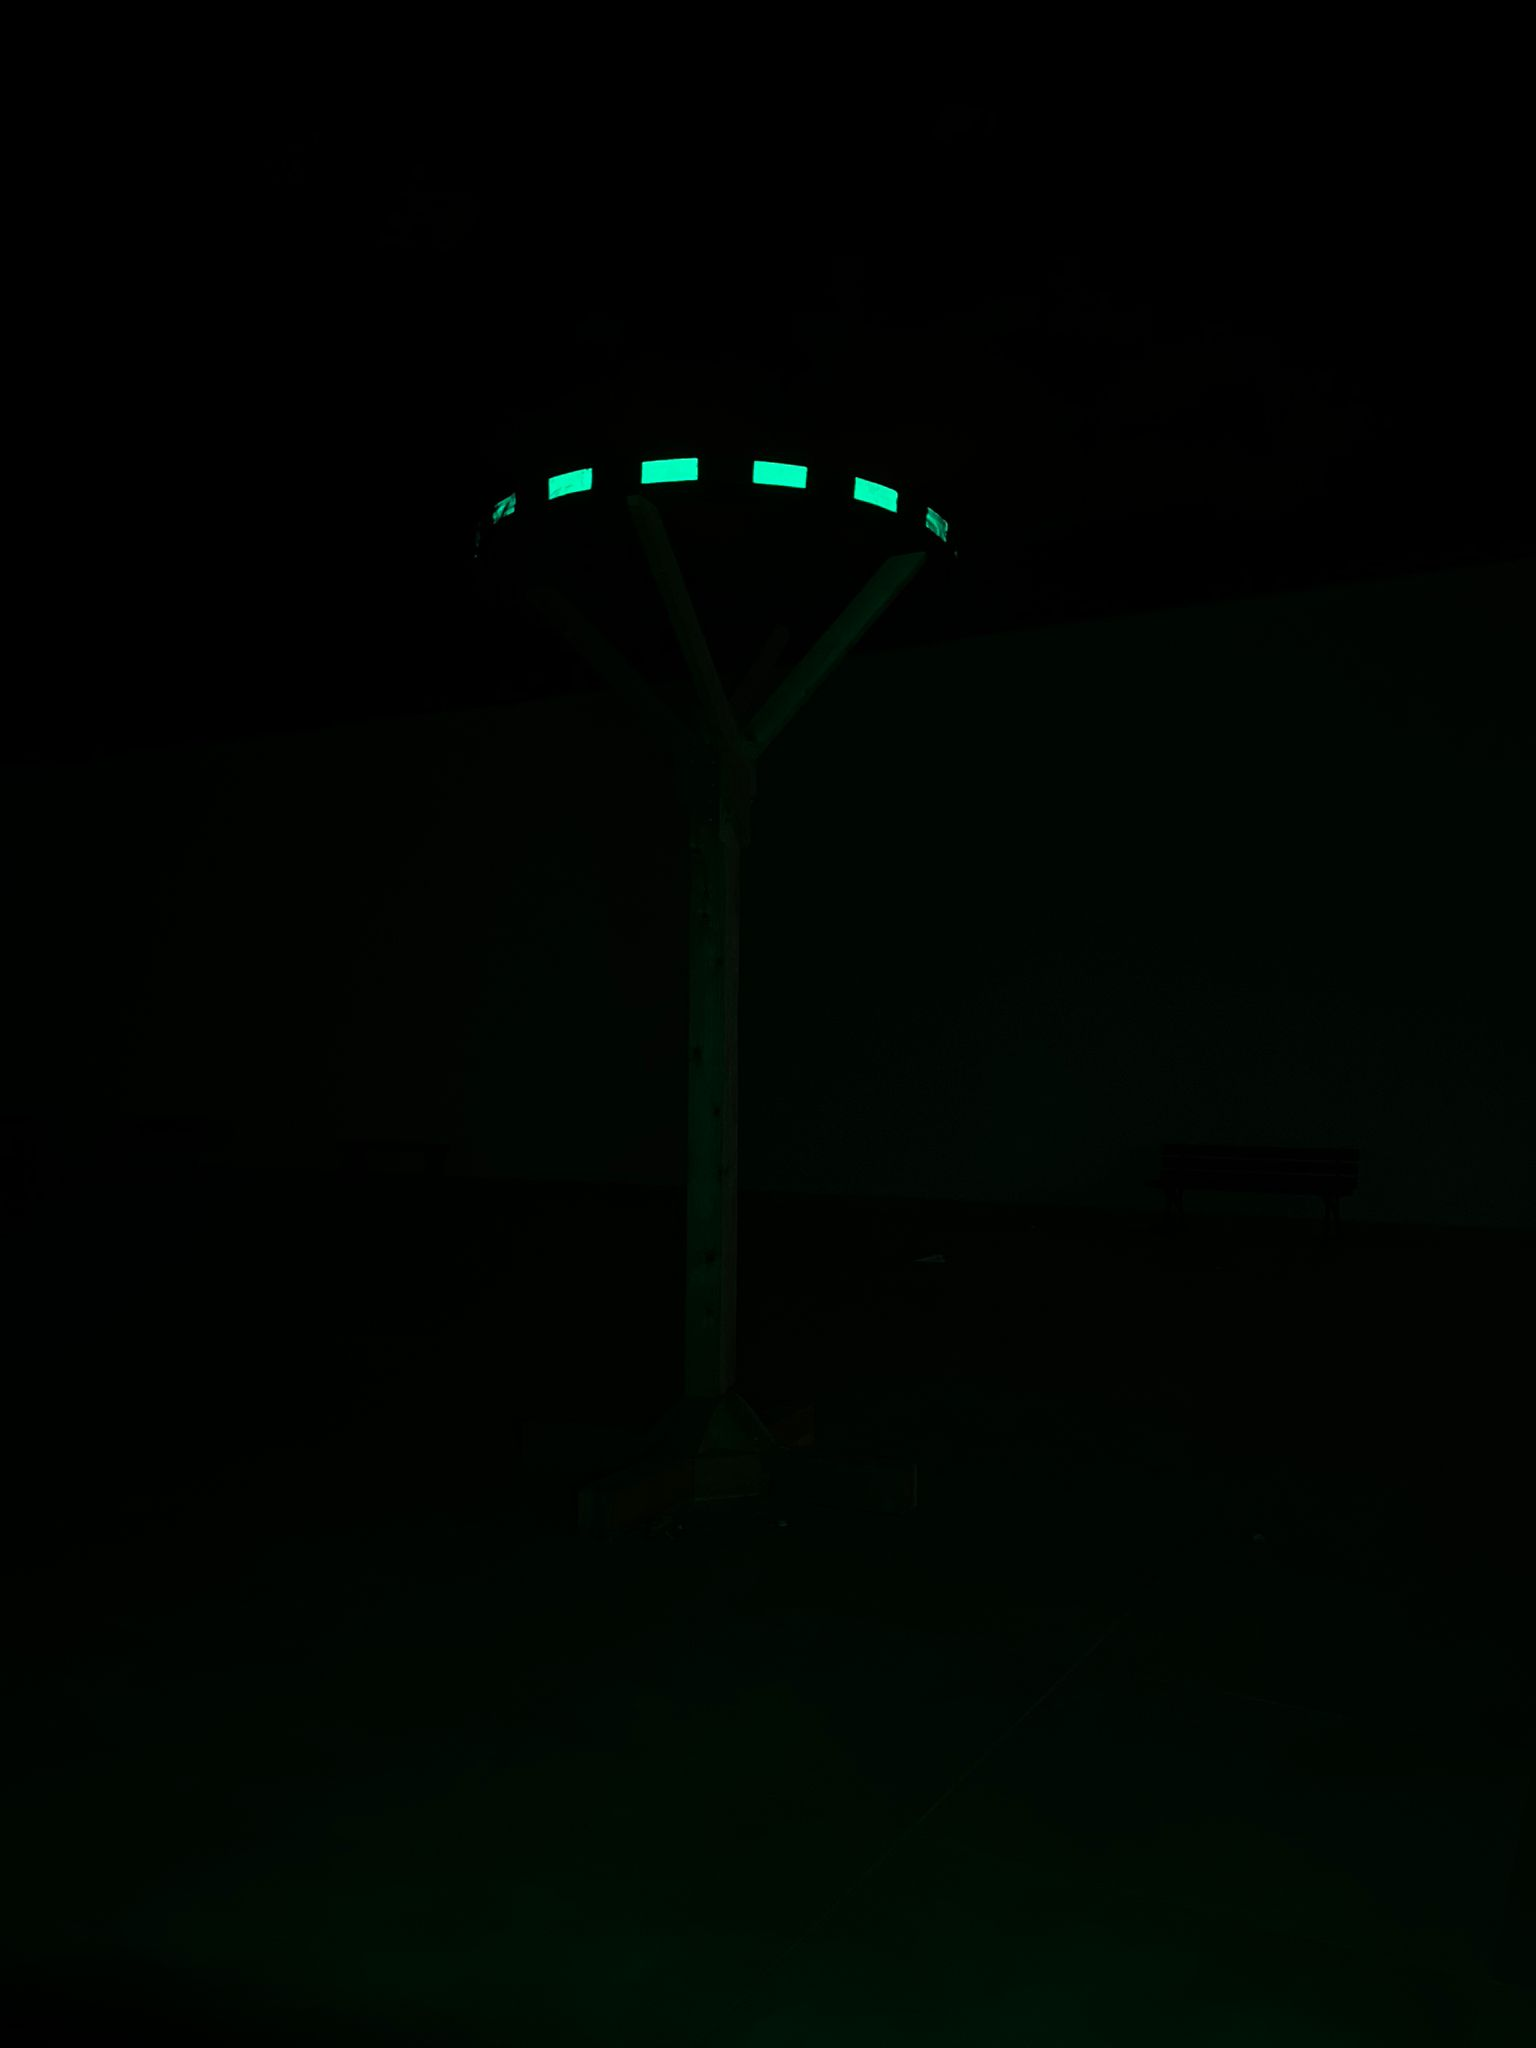hoop: (470, 435, 954, 550)
